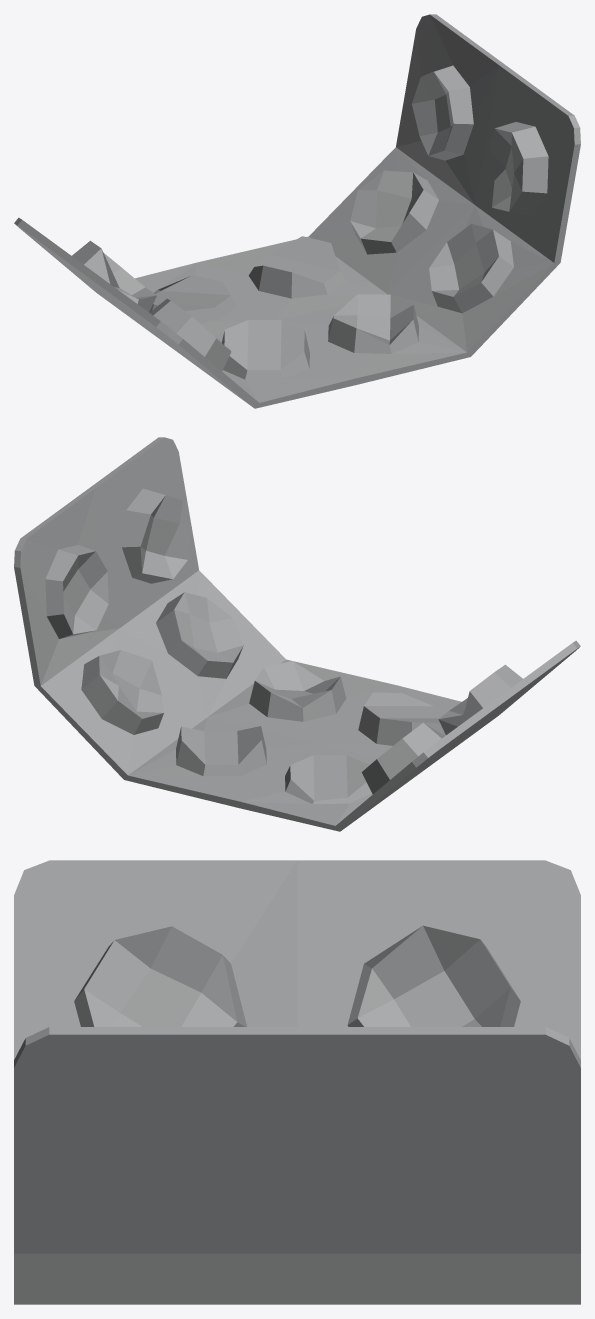
The model's file is PillsBlisterEmpty1.fbx.
3 views of the same model, one above another, from view 1: azimuth 30°, elevation 25°; view 2: azimuth 150°, elevation 25°; view 3: azimuth 270°, elevation 25° (orthographic). The views are drawn at different scales.
Parts seen in each view (by area): view 1: Cube; view 2: Cube; view 3: Cube.
Part boxes in pixels (x1=…): Cube: x1=14, y1=14, x2=580, y2=408; Cube: x1=14, y1=437, x2=580, y2=831; Cube: x1=14, y1=860, x2=580, y2=1304.
Bounding box in the file's own units: 307 × 145 × 201.
